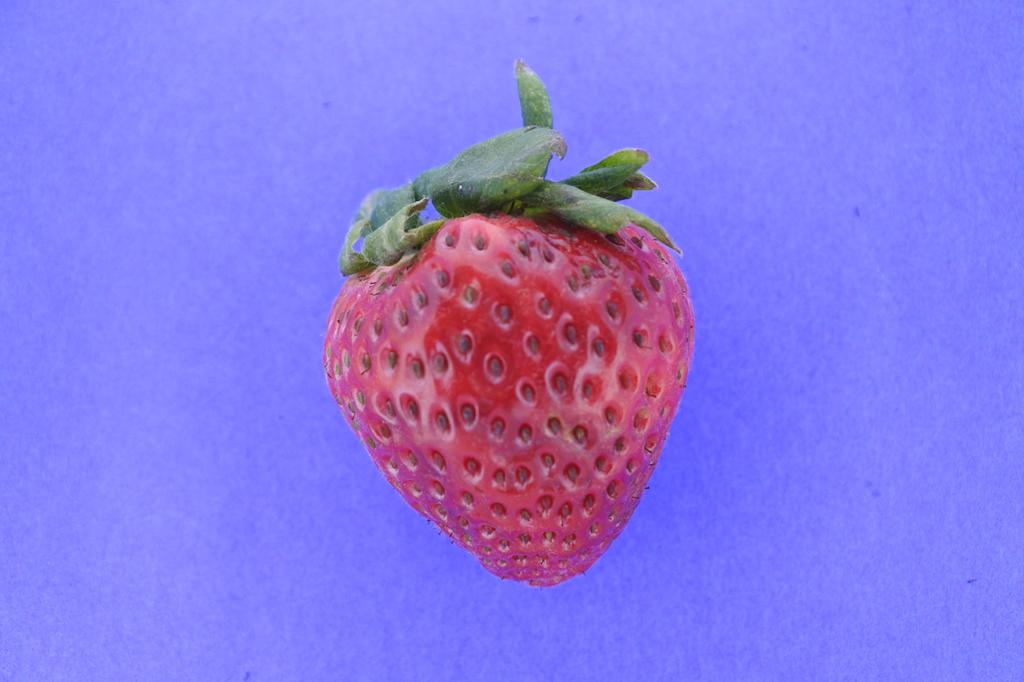red strawberry: (323, 57, 699, 586)
